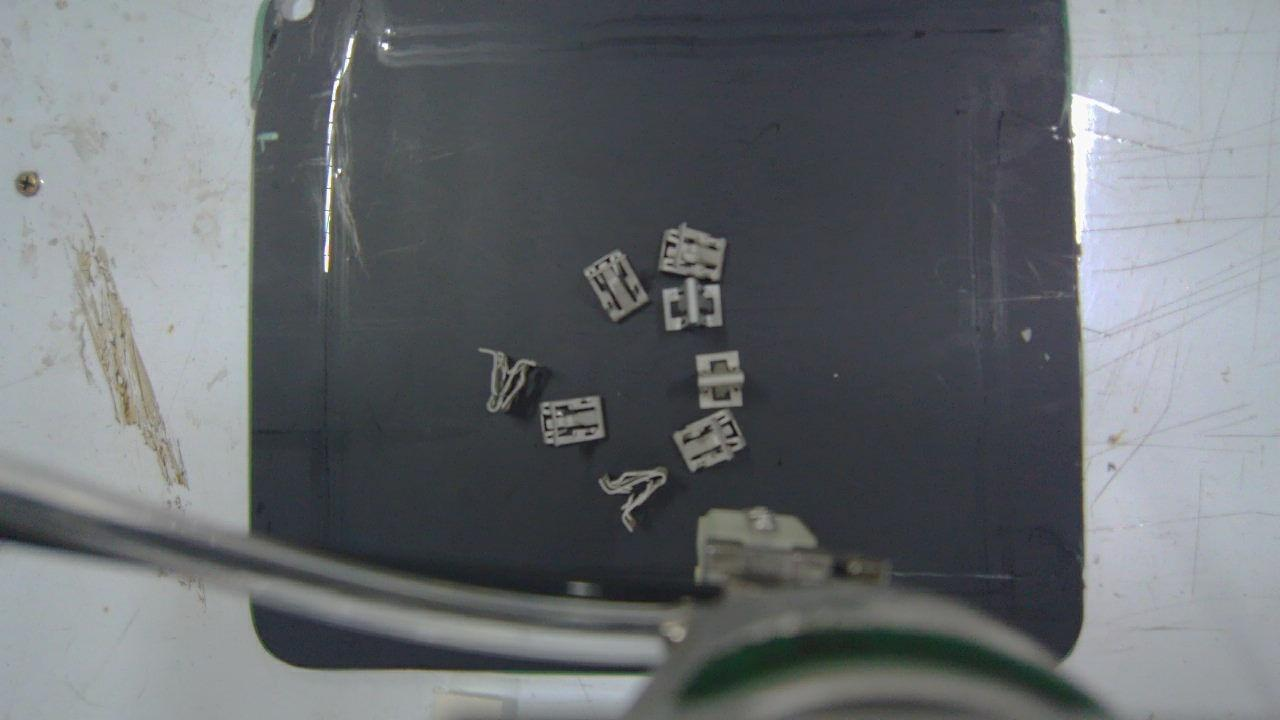ng: (584, 248, 651, 324), (673, 409, 747, 472), (600, 466, 668, 530), (657, 222, 727, 281), (480, 347, 536, 413), (539, 395, 606, 446)
pass: (663, 277, 724, 332), (696, 350, 745, 408)
